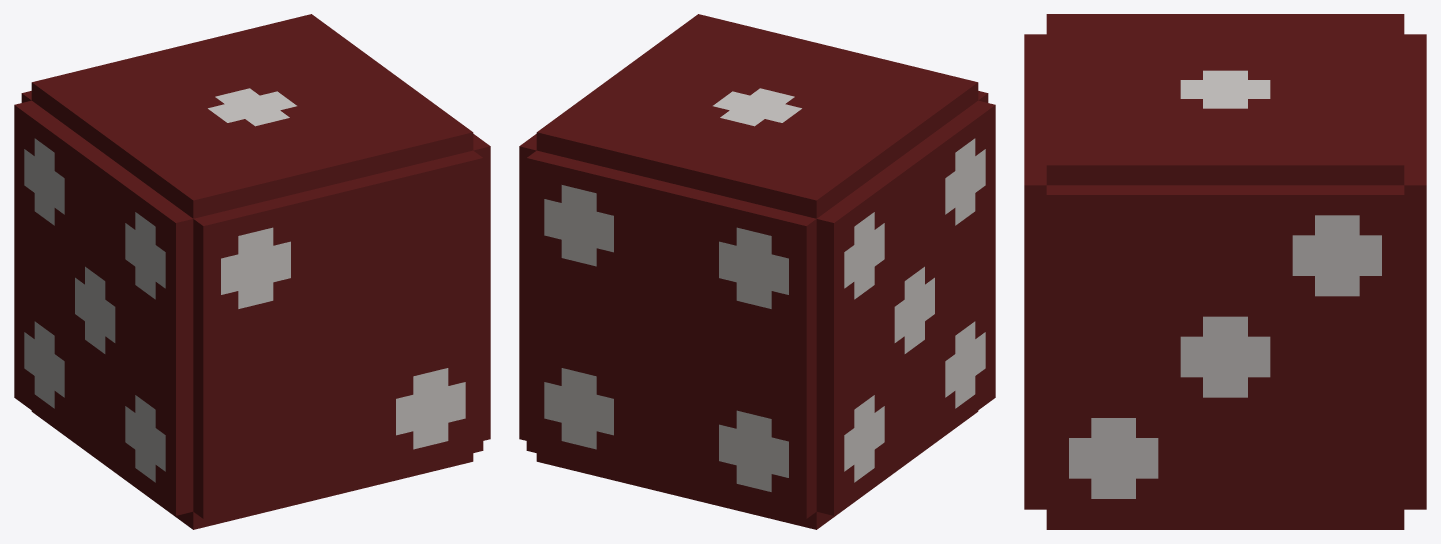
File: dice-v3-red-white.gltf
The picture shows the model from 3 angles, left to right: view 1: azimuth 30°, elevation 25°; view 2: azimuth 150°, elevation 25°; view 3: azimuth 270°, elevation 25°; orthographic projection. The views are drawn at different scales.
Parts seen in each view (by area): view 1: Untitled; view 2: Untitled; view 3: Untitled.
Part boxes in pixels (<box>): Untitled: <box>14,14,490,529</box>; Untitled: <box>519,14,995,529</box>; Untitled: <box>1024,14,1426,529</box>.
Size of the model in its own units: 1.8 by 1.8 by 1.8.
1 material, 1 textured.
